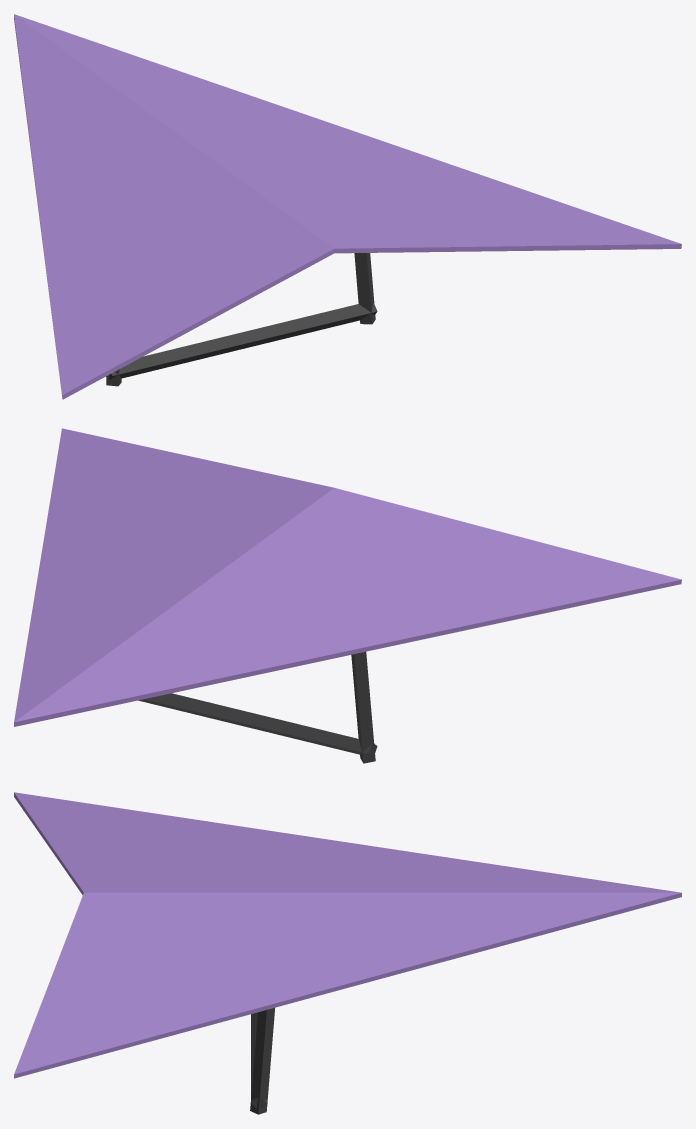
Rendered from glider.fbx.
3 views of the same model, one above another, from view 1: azimuth 30°, elevation 25°; view 2: azimuth 150°, elevation 25°; view 3: azimuth 270°, elevation 25° (orthographic). The views are drawn at different scales.
Parts seen in each view (by area): view 1: Plane, Cylinder.001, Cylinder; view 2: Plane, Cylinder.001, Cylinder; view 3: Plane, Cylinder.
Boxes of the visible parts, left/top/right/bottom form: Plane: left=14, top=14, right=681, bottom=399; Cylinder.001: left=106, top=303, right=377, bottom=379; Cylinder: left=106, top=253, right=375, bottom=386; Plane: left=14, top=428, right=681, bottom=726; Cylinder.001: left=138, top=693, right=377, bottom=756; Cylinder: left=351, top=651, right=375, bottom=763; Plane: left=14, top=792, right=681, bottom=1078; Cylinder: left=250, top=1008, right=274, bottom=1114.
Size of the model in its own units: 400 by 107 by 400.
